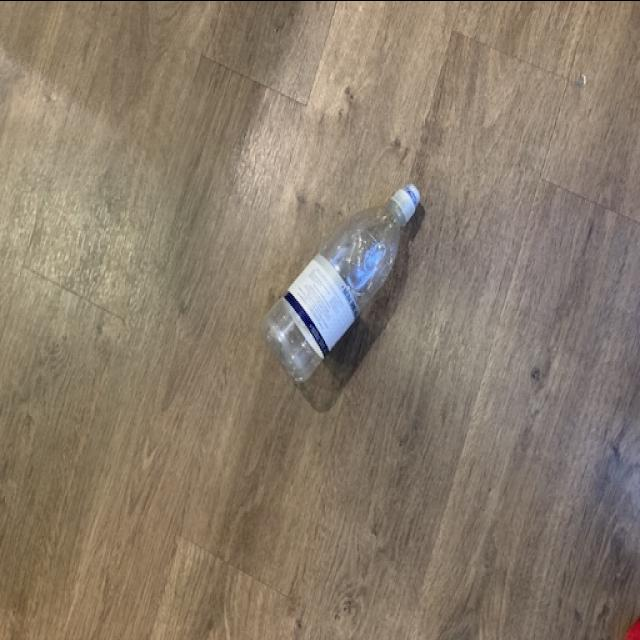litter: (259, 177, 425, 383)
